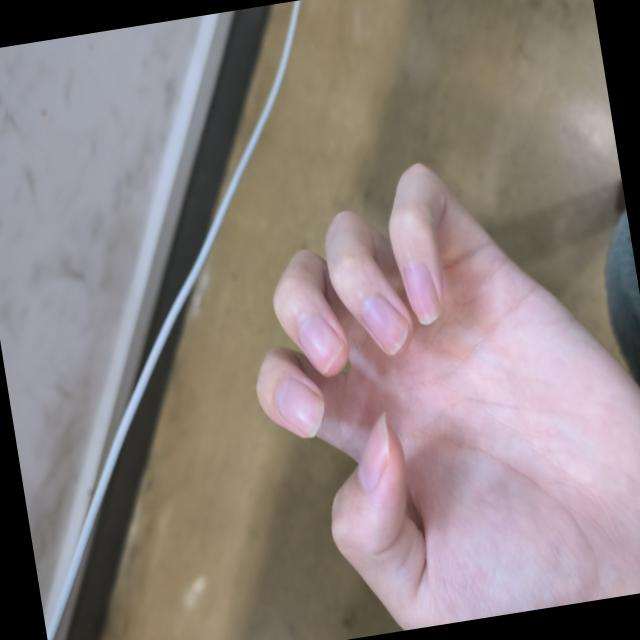Nail: (274, 379, 323, 435), (360, 294, 406, 353), (356, 410, 389, 490), (298, 317, 342, 373), (403, 262, 440, 324)
